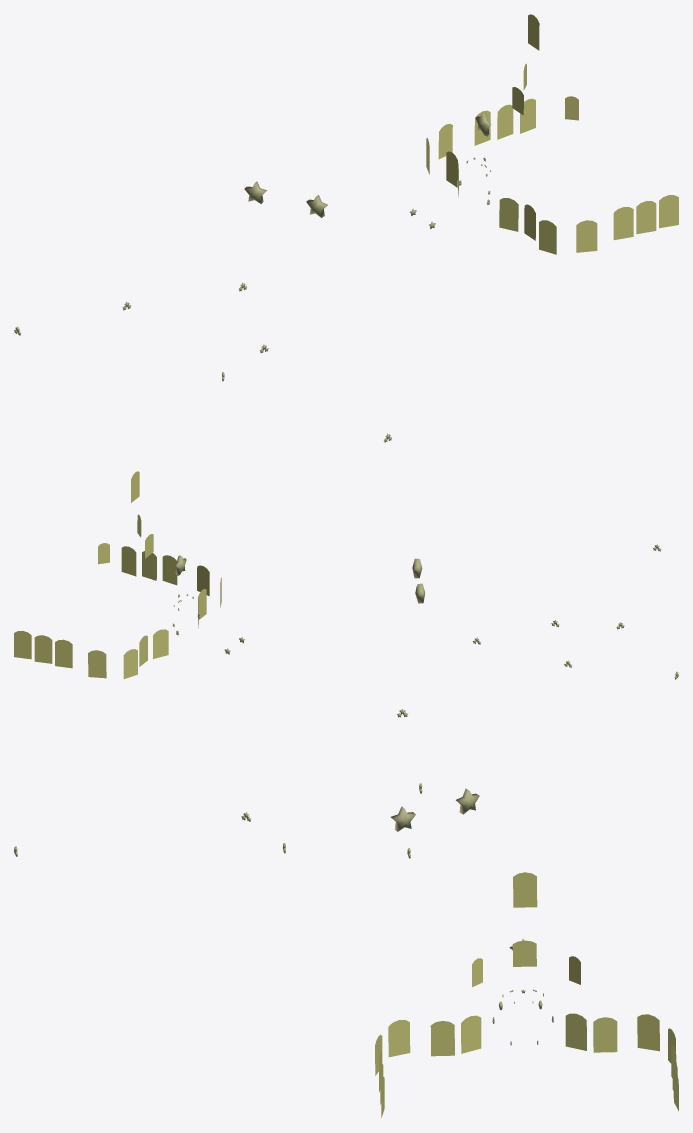
The model's file is PeachKingdomPlanetBloom.fbx.
The picture shows the model from 3 angles, top to bottom: view 1: azimuth 30°, elevation 25°; view 2: azimuth 150°, elevation 25°; view 3: azimuth 270°, elevation 25°; orthographic projection. The views are drawn at different scales.
Visible parts, largest first — view 1: Bloom; view 2: Bloom; view 3: Bloom.
Boxes of the visible parts, left/top/right/bottom form: Bloom: left=14, top=14, right=678, bottom=442; Bloom: left=14, top=471, right=678, bottom=679; Bloom: left=14, top=709, right=678, bottom=1117.
Bounding box in the file's own units: 1171871 × 317775 × 928803.
